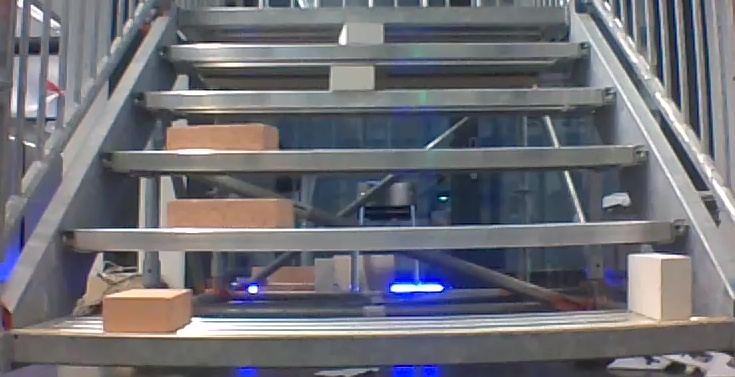brick: (628, 254, 691, 320), (101, 289, 192, 333), (167, 199, 292, 228), (166, 123, 277, 151), (331, 67, 373, 90), (339, 23, 382, 45)
edge: (9, 319, 735, 366), (64, 220, 688, 248), (104, 145, 648, 170), (135, 87, 614, 107), (160, 42, 589, 60), (178, 7, 569, 23)
